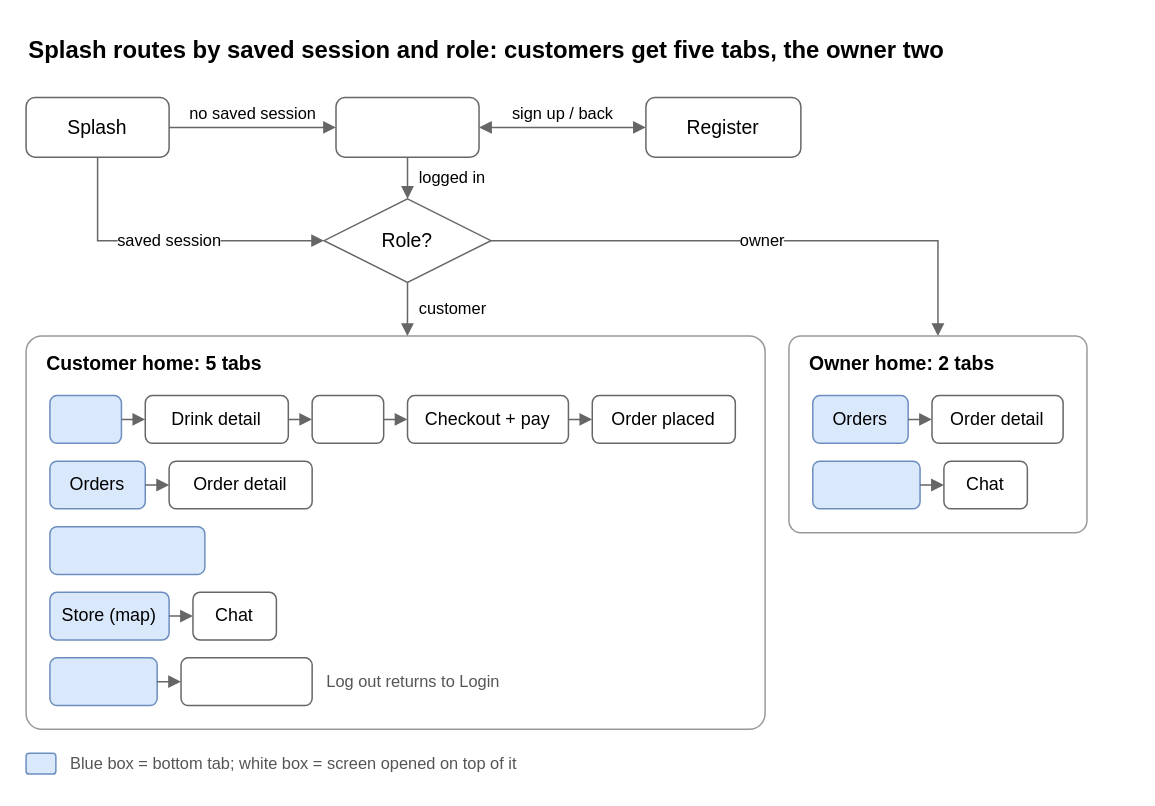
This 1155x806 diagram has some shape labels left out. Here are the shapes that lost their labels. From the top down, the centre of each, then its label:
At pixel 407 126: "Login".
At pixel 84 418: "Menu".
At pixel 347 418: "Cart".
At pixel 865 484: "Messages".
At pixel 126 549: "Notifications".
At pixel 102 681: "Account".
At pixel 246 681: "Edit profile".
